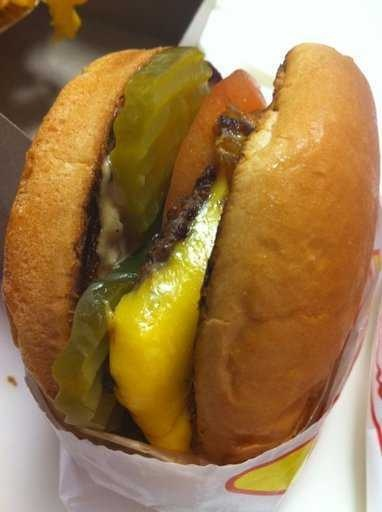hamburger: (10, 26, 373, 450)
